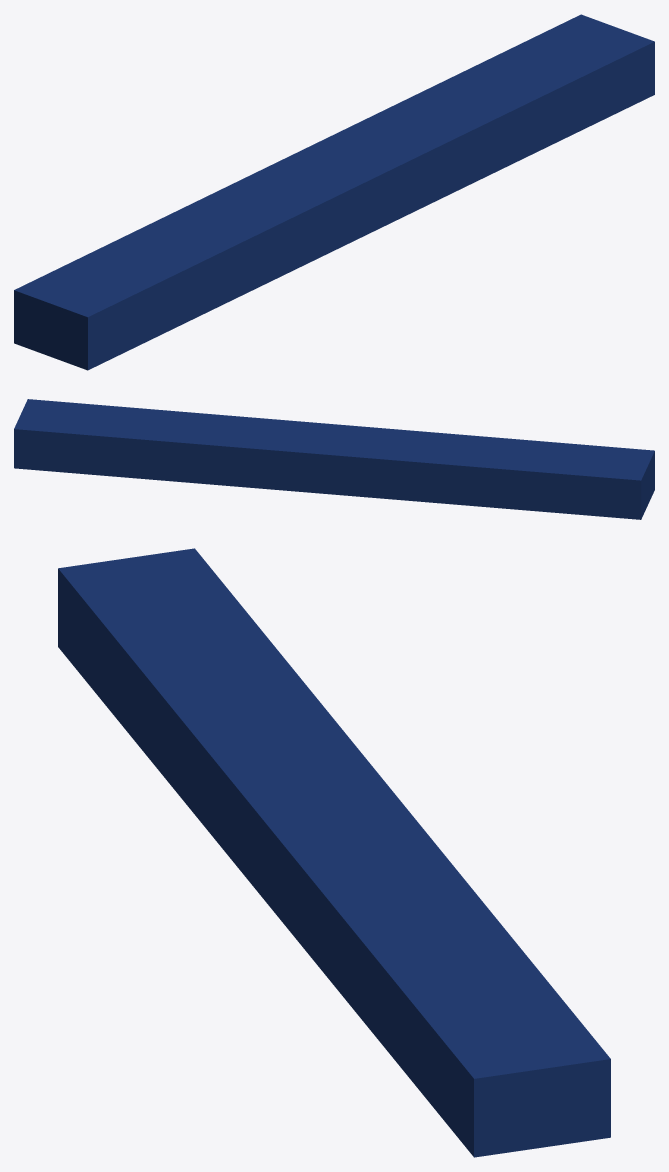
File: footbridge_01780_far.glb
The picture shows the model from 3 angles, top to bottom: view 1: azimuth 30°, elevation 25°; view 2: azimuth 150°, elevation 25°; view 3: azimuth 270°, elevation 25°; orthographic projection. The views are drawn at different scales.
Parts seen in each view (by area): view 1: chunk_0_0; view 2: chunk_0_0; view 3: chunk_0_0.
Boxes of the visible parts, x1=… form: chunk_0_0: x1=14, y1=14, x2=654, y2=370; chunk_0_0: x1=14, y1=399, x2=654, y2=519; chunk_0_0: x1=58, y1=548, x2=610, y2=1157.
Size of the model in its own units: 26.03 by 1.8 by 11.47.
